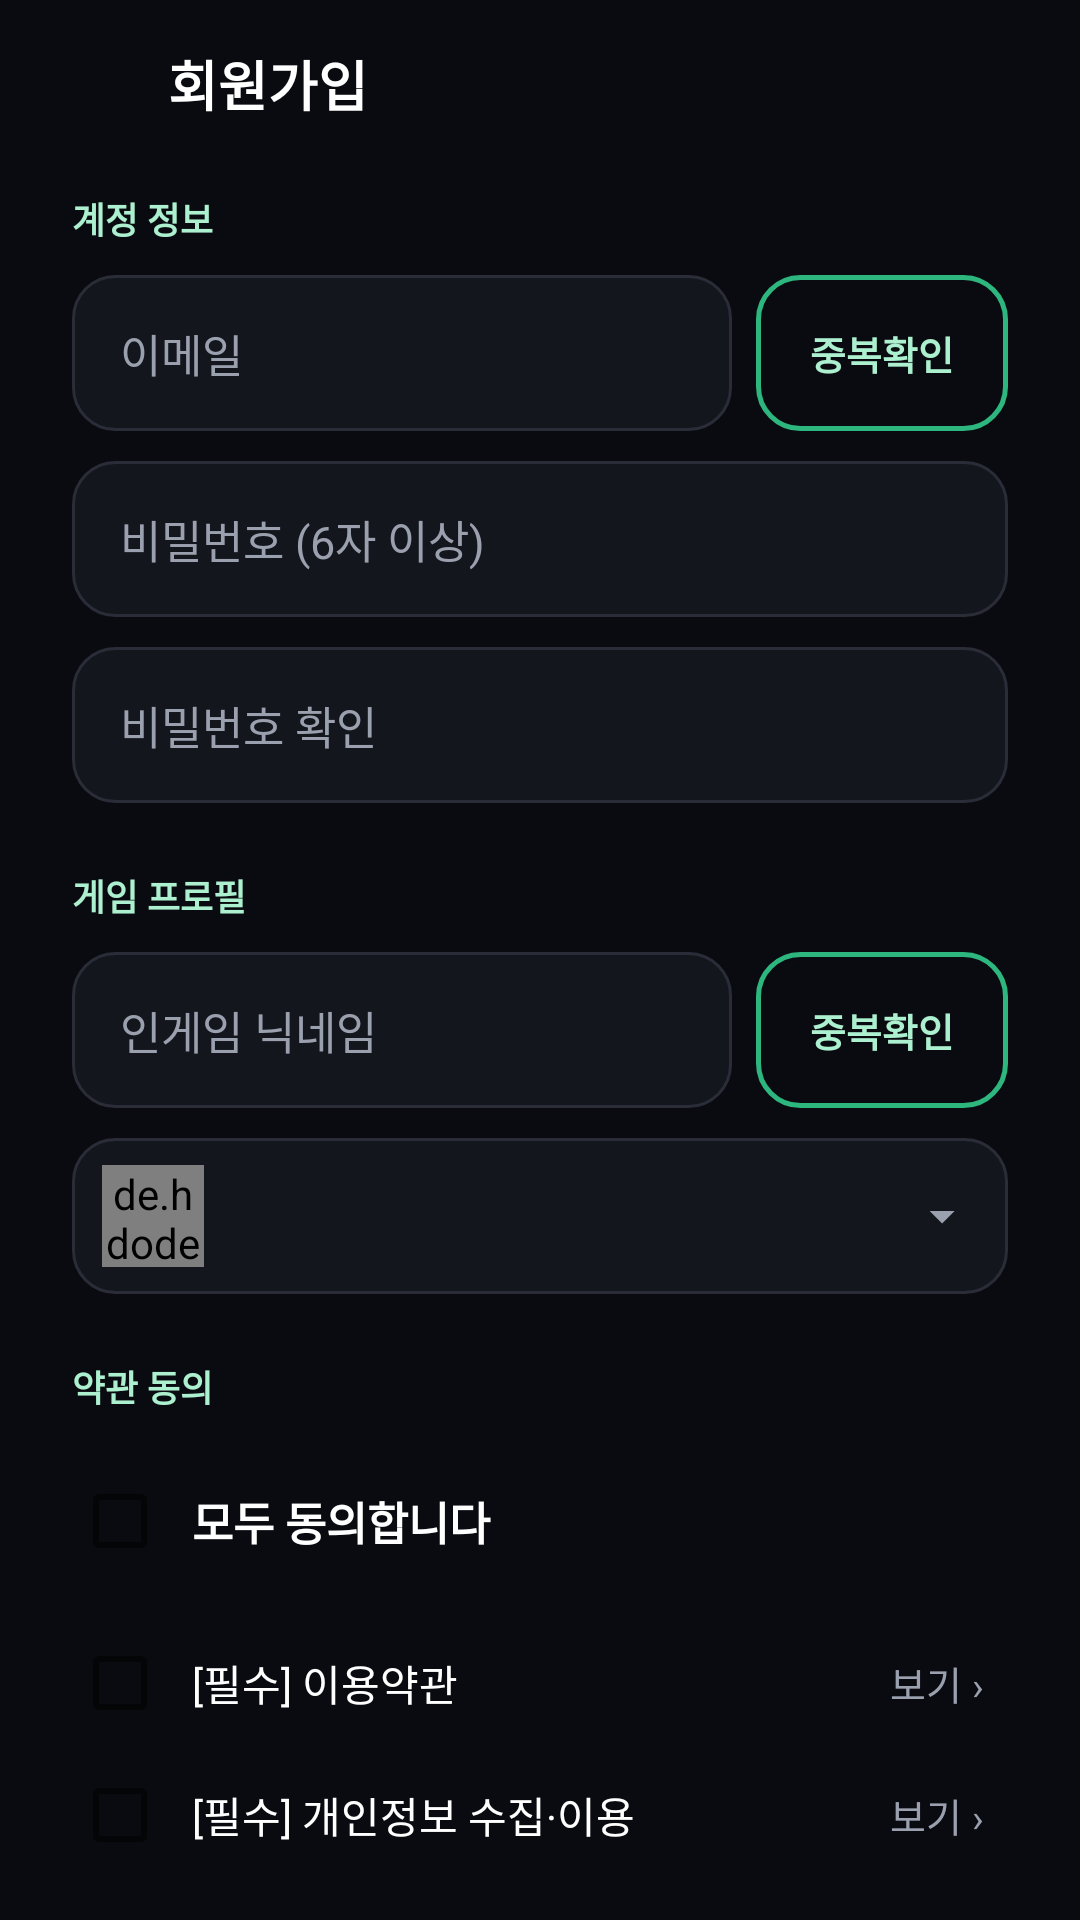

Where to tap for icons on this 1080*1920 app screen, as (x=x, y=y):
dropdown arrow: (x=942, y=1217)
